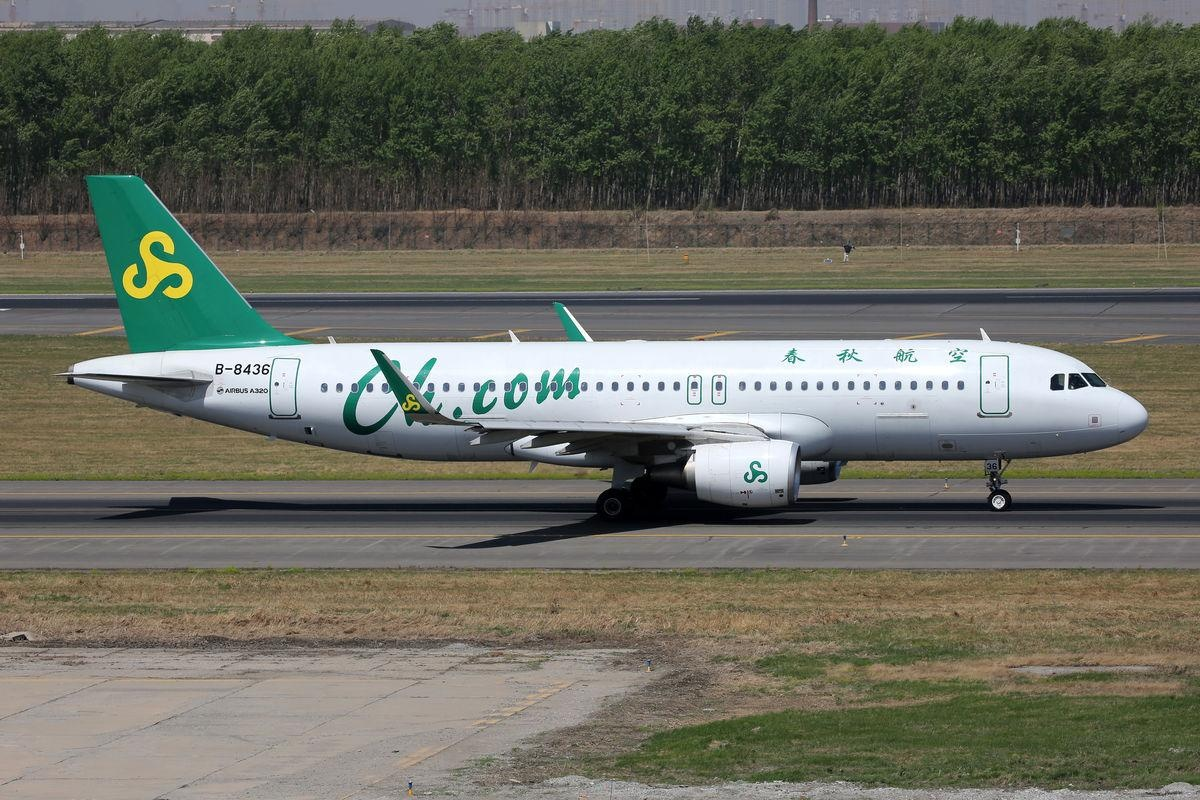airplane: (54, 175, 1157, 536)
